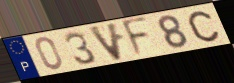0: (34, 36, 65, 72)
3: (64, 31, 98, 67)
8: (157, 14, 190, 50)
C: (187, 10, 222, 43)
F: (120, 15, 150, 60)
V: (86, 21, 125, 63)
